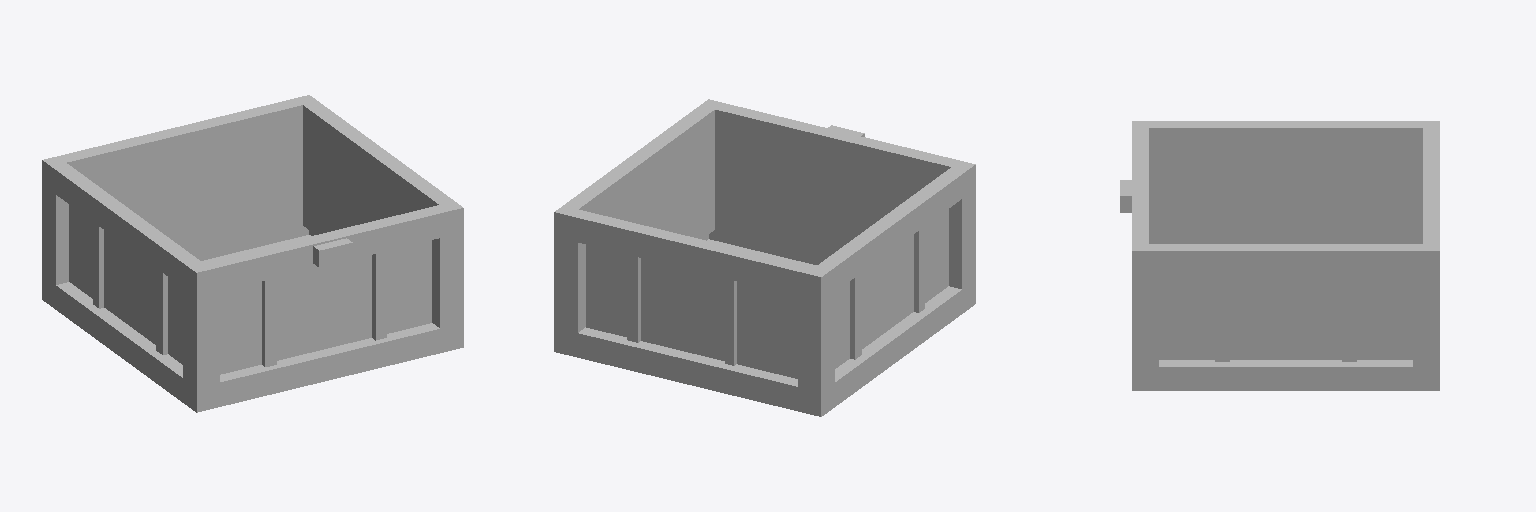
Rendered from ChestBase.obj.
3 views of the same model, side by side, from view 1: azimuth 30°, elevation 25°; view 2: azimuth 150°, elevation 25°; view 3: azimuth 270°, elevation 25° (orthographic).
Parts seen in each view (by area): view 1: TreasureChest_Base_Cube.001; view 2: TreasureChest_Base_Cube.001; view 3: TreasureChest_Base_Cube.001.
Boxes of the visible parts, x1=… form: TreasureChest_Base_Cube.001: x1=42, y1=95, x2=463, y2=412; TreasureChest_Base_Cube.001: x1=554, y1=99, x2=975, y2=416; TreasureChest_Base_Cube.001: x1=1120, y1=121, x2=1439, y2=390.
Bounding box in the file's own units: 2 × 1 × 2.08.